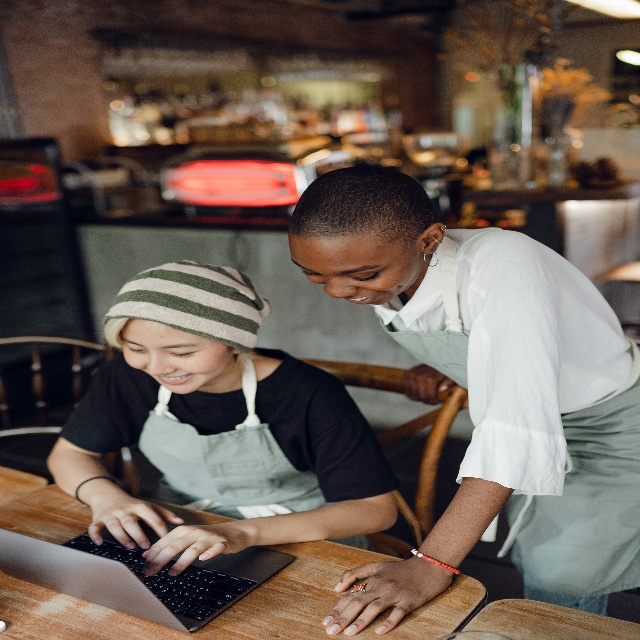Sin_guantes: (324, 554, 453, 640), (84, 485, 185, 558), (141, 516, 254, 580)
